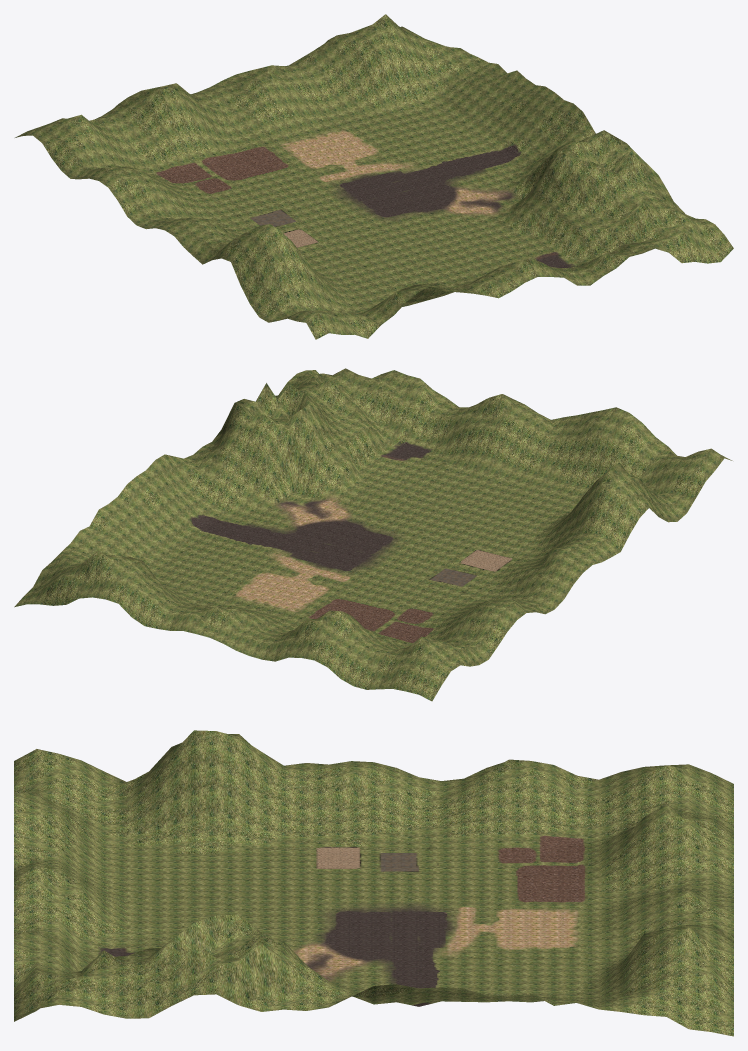
3 views of the same model, one above another, from view 1: azimuth 30°, elevation 25°; view 2: azimuth 150°, elevation 25°; view 3: azimuth 270°, elevation 25° (orthographic). The views are drawn at different scales.
Visible parts, largest first — view 1: Mesh; view 2: Mesh; view 3: Mesh.
Boxes of the visible parts, x1,y1,x2,y2 form: Mesh: (15, 14, 733, 339); Mesh: (14, 368, 732, 701); Mesh: (14, 730, 733, 1036).
Size of the model in its own units: 400 by 66.14 by 500.
Materials: 1 (1 with a texture image).
